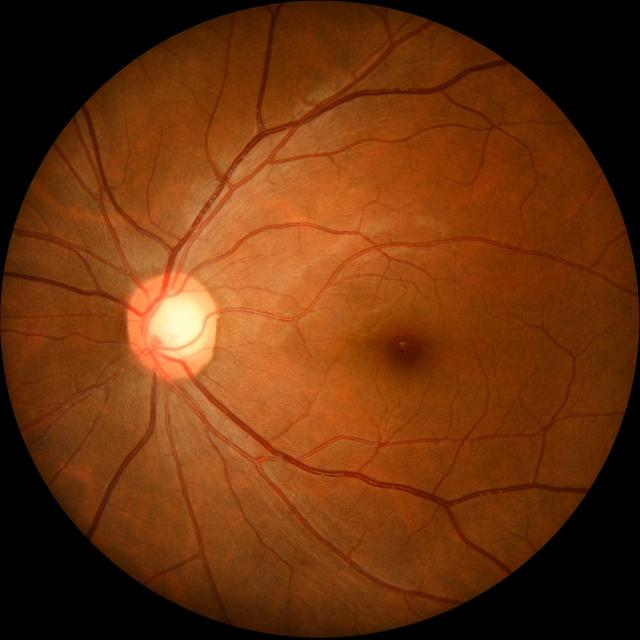OC: (146, 291, 209, 360)
OD: (126, 271, 219, 379)
